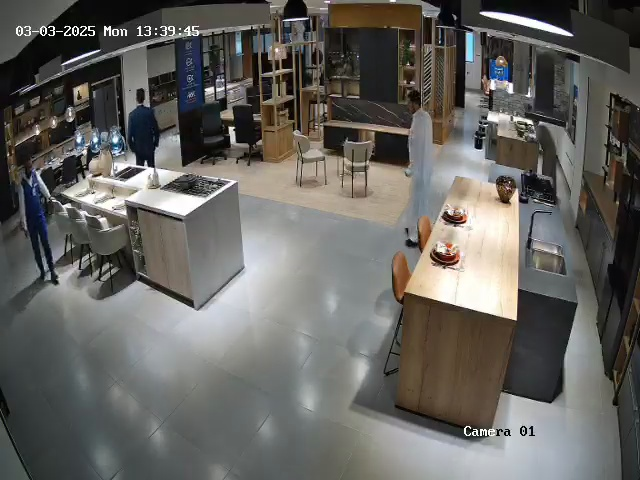employee: (18, 154, 60, 286), (127, 88, 160, 168)
male: (403, 90, 434, 239)
